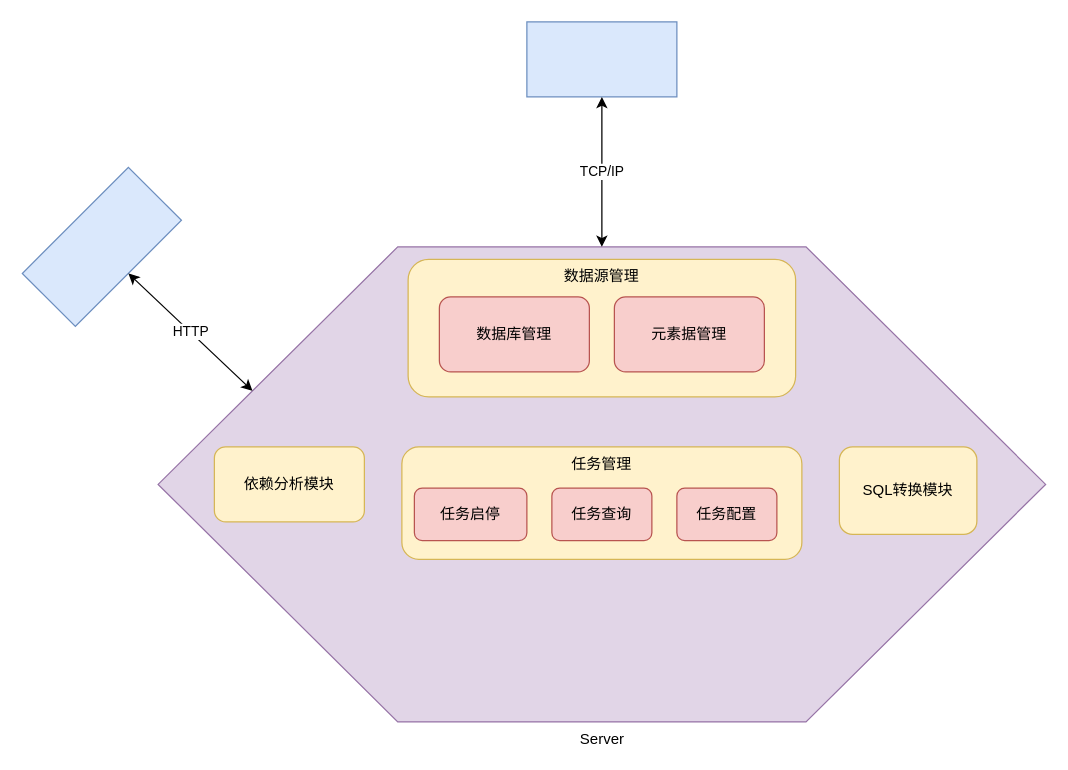
This 1068x770 diagram has some shape labels left out. Each missing label, with the centre of its shape:
"Shell Client" goes at [601,59].
"WebClient" goes at [101,246].
